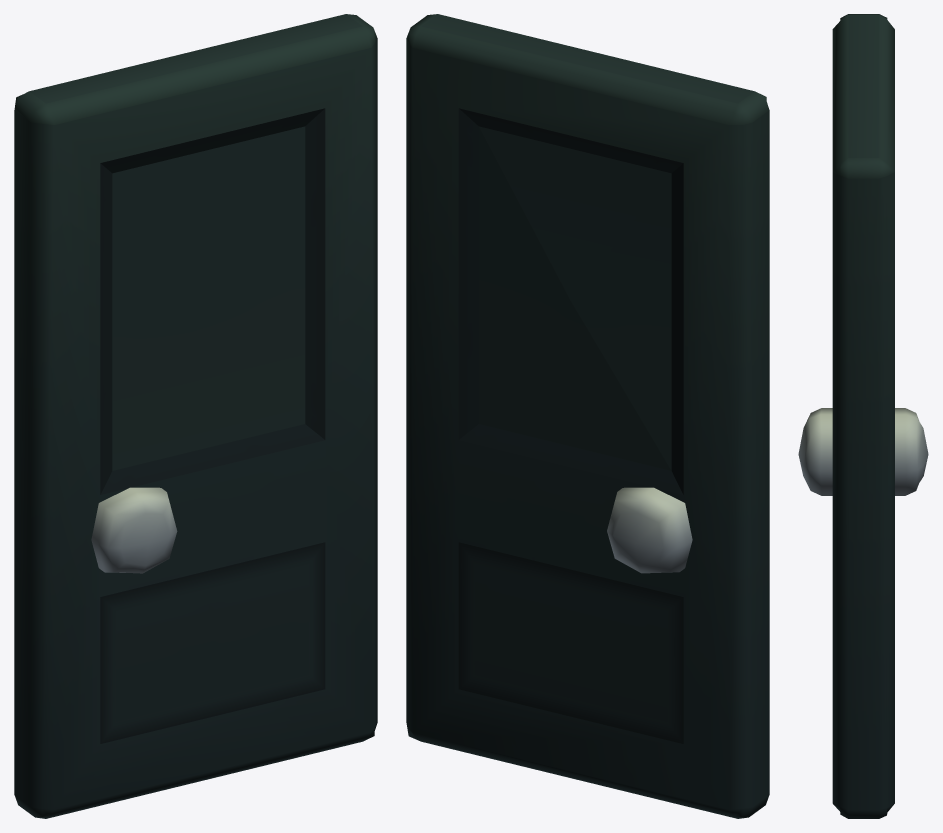
Rendered from door_appartment_dark2_LOD_setup.fbx.
3 renders of one model, left to right at view 1: azimuth 30°, elevation 25°; view 2: azimuth 150°, elevation 25°; view 3: azimuth 270°, elevation 25°, orthographic. The views are drawn at different scales.
Visible parts, largest first — view 1: door_appartment_dark2_LOD0; view 2: door_appartment_dark2_LOD0; view 3: door_appartment_dark2_LOD0.
Part boxes in pixels (x1=…): door_appartment_dark2_LOD0: x1=14, y1=14, x2=377, y2=818; door_appartment_dark2_LOD0: x1=406, y1=14, x2=769, y2=818; door_appartment_dark2_LOD0: x1=798, y1=14, x2=928, y2=818.
Size of what is drawn, in the model's own units: 104 by 206 by 36.84.
